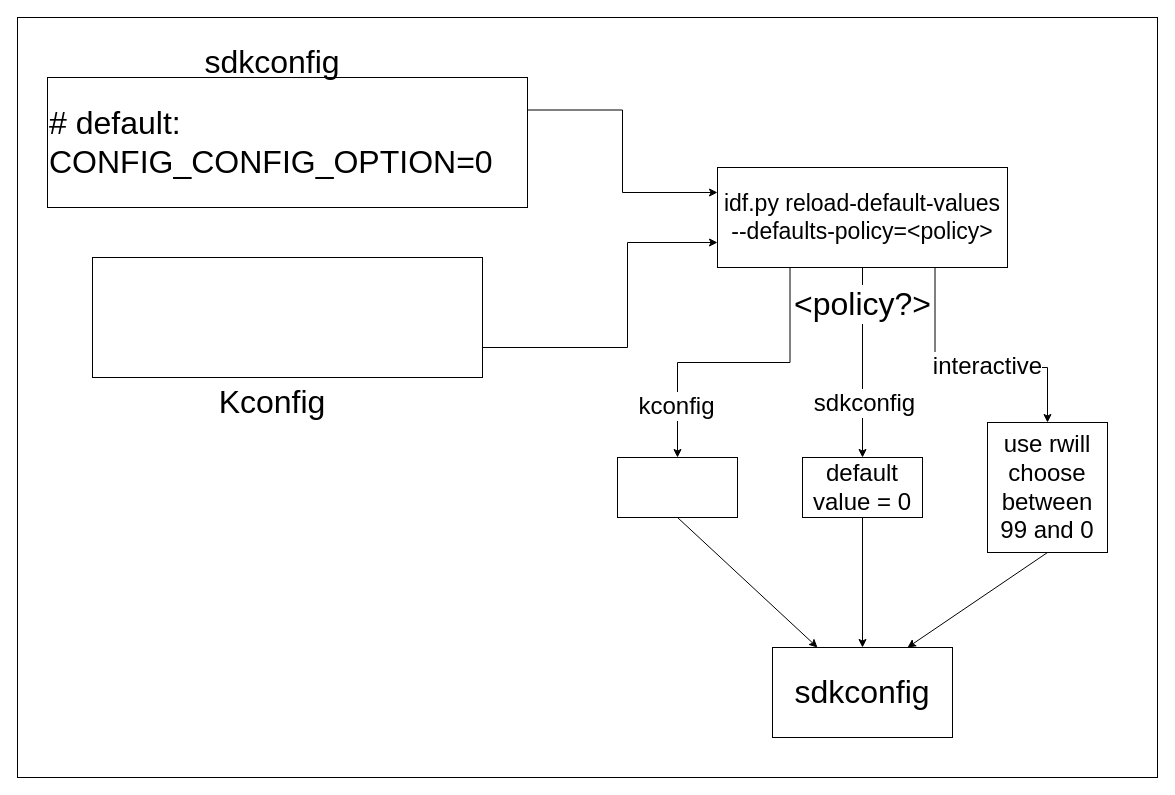
This 1175x795 diagram has some shape labels left out. The centre of each missing label's shape, as x and y in pixels:
"config CONFIG_OPTION default 99" belongs at (287,317).
"default value = 99" belongs at (677,487).
